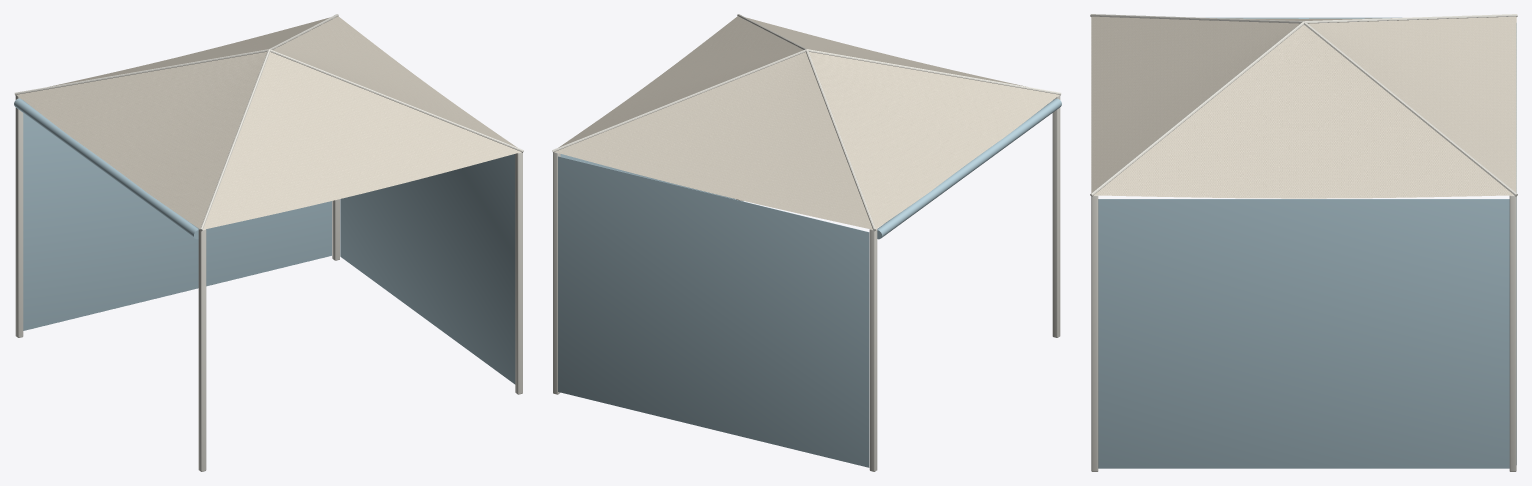
The model's file is carpa_left_exterior.glb.
3 views of the same model, side by side, from view 1: azimuth 30°, elevation 25°; view 2: azimuth 150°, elevation 25°; view 3: azimuth 270°, elevation 25° (orthographic). The views are drawn at different scales.
Parts seen in each view (by area): view 1: carpa_left_exterior; view 2: carpa_left_exterior; view 3: carpa_left_exterior.
Part boxes in pixels (bbox=[...]): carpa_left_exterior: bbox=[14, 14, 523, 471]; carpa_left_exterior: bbox=[552, 14, 1061, 471]; carpa_left_exterior: bbox=[1090, 14, 1517, 471].
Bounding box in the file's own units: 3.05 × 2.81 × 3.02.
Materials: 3 (1 with a texture image).
